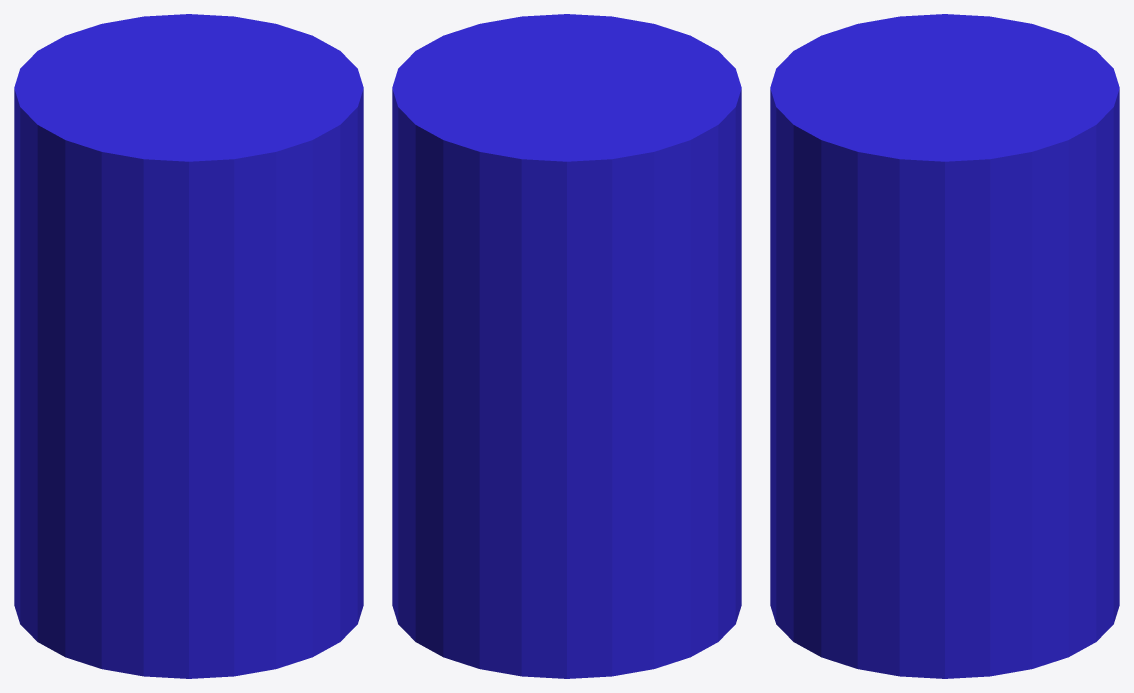
The model's file is hider_crouching_body.glb.
The picture shows the model from 3 angles, left to right: view 1: azimuth 30°, elevation 25°; view 2: azimuth 150°, elevation 25°; view 3: azimuth 270°, elevation 25°; orthographic projection.
Parts seen in each view (by area): view 1: Cylinder; view 2: Cylinder; view 3: Cylinder.
Part boxes in pixels (x1,y1,x2,y2): Cylinder: [14, 14, 363, 678]; Cylinder: [392, 14, 741, 678]; Cylinder: [770, 14, 1119, 678].
Bounding box in the file's own units: 0.6 × 0.9796 × 0.6.
